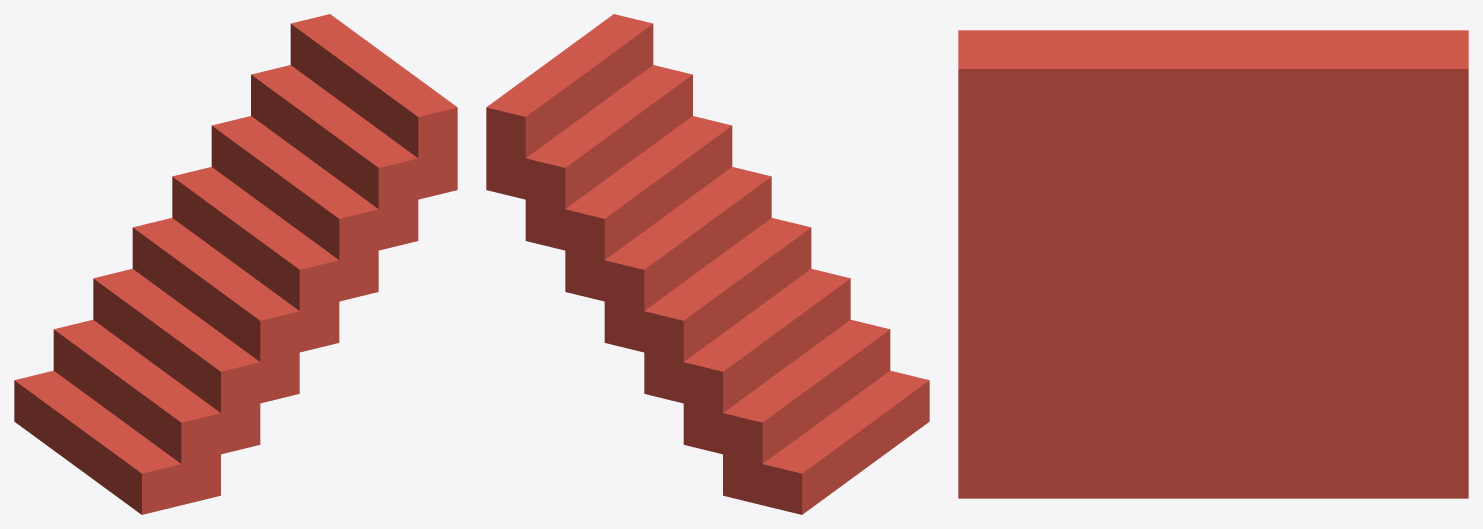
File: stairs_stairs.glb
3 views of the same model, side by side, from view 1: azimuth 30°, elevation 25°; view 2: azimuth 150°, elevation 25°; view 3: azimuth 270°, elevation 25° (orthographic). The views are drawn at different scales.
Parts seen in each view (by area): view 1: stairs; view 2: stairs; view 3: stairs.
Boxes of the visible parts, left/top/right/bottom form: stairs: left=14, top=14, right=457, bottom=514; stairs: left=486, top=14, right=929, bottom=514; stairs: left=958, top=30, right=1468, bottom=498.
Bounding box in the file's own units: 1.6 × 1.6 × 1.12.
